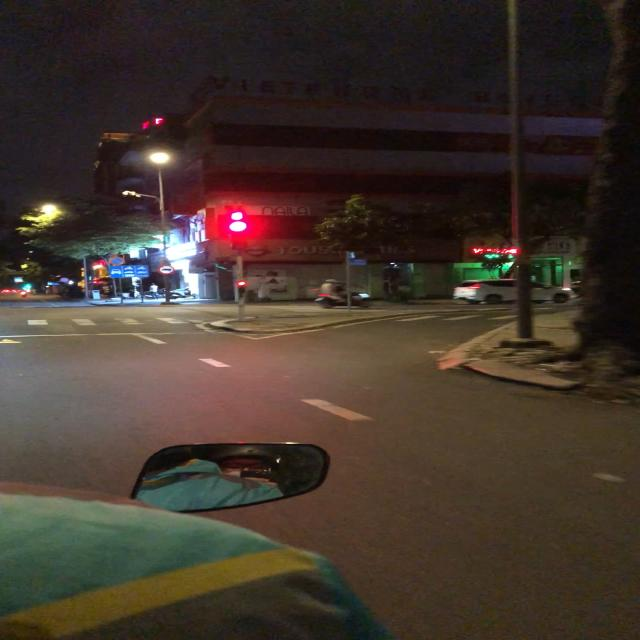Bien bao cam xe so-mi ro-mooc: (154, 261, 182, 277)
